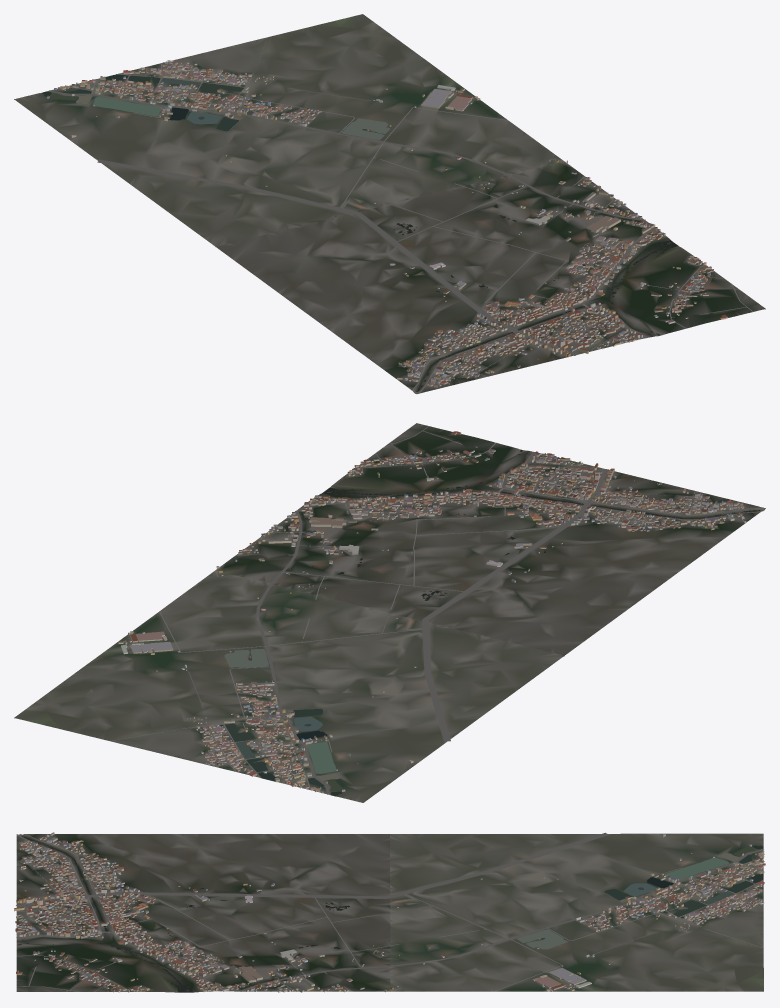
3 views of the same model, one above another, from view 1: azimuth 30°, elevation 25°; view 2: azimuth 150°, elevation 25°; view 3: azimuth 270°, elevation 25° (orthographic). The views are drawn at different scales.
Parts seen in each view (by area): view 1: ground, buildings, roads, water; view 2: ground, buildings, roads, water; view 3: ground, buildings, roads, water.
Part boxes in pixels (x1,y1,x2,y2): ground: [14, 14, 765, 393]; buildings: [47, 60, 727, 387]; roads: [48, 41, 753, 393]; water: [42, 74, 677, 391]; ground: [14, 423, 765, 802]; buildings: [118, 431, 745, 793]; roads: [110, 426, 763, 794]; water: [220, 450, 759, 795]; ground: [16, 833, 763, 992]; buildings: [14, 832, 765, 992]; roads: [16, 832, 763, 991]; water: [17, 836, 763, 992].
Size of the model in its own units: 1420 by 30.14 by 2822.
